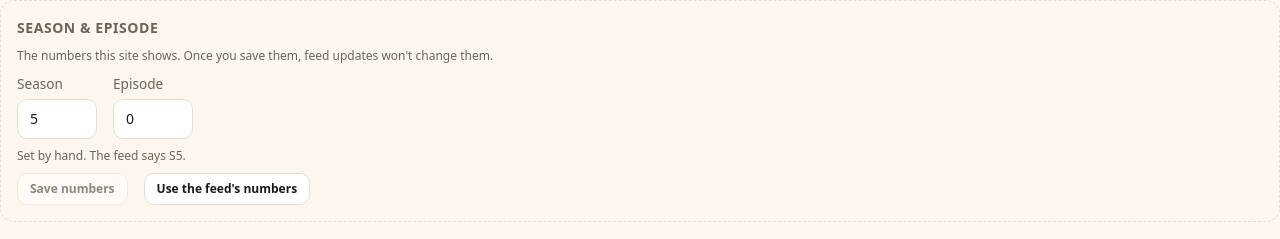
Test: EpisodeNumbersEditor › hands pinned numbers back to the feed
Click the button "Use the feed's numbers".
click(227, 189)  # box [144,173,310,205]
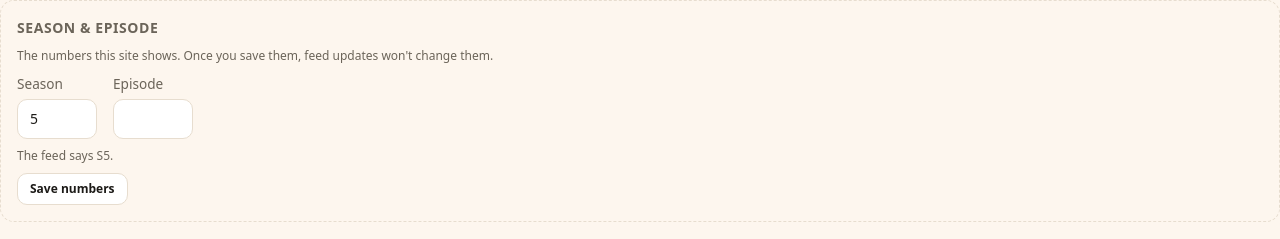
Expected: the button "Use the feed's numbers" is gone
Expected: the number field labelled "Episode" is not empty, [113,99,193,139]
